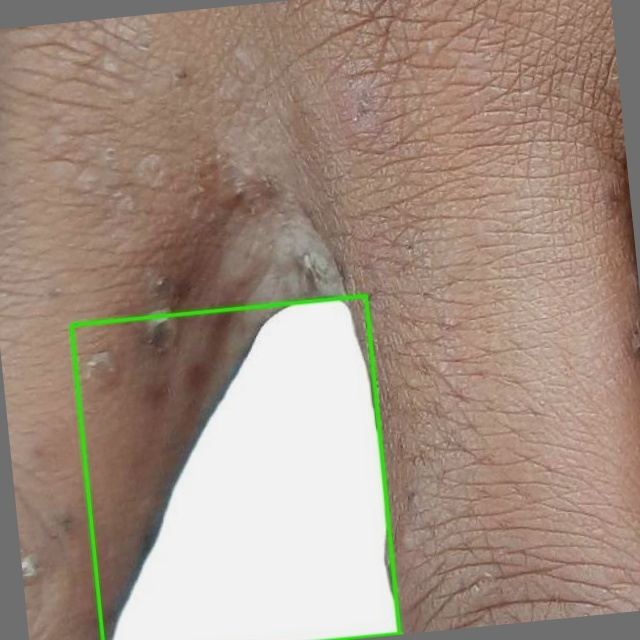Scabies: (71, 295, 399, 639)
